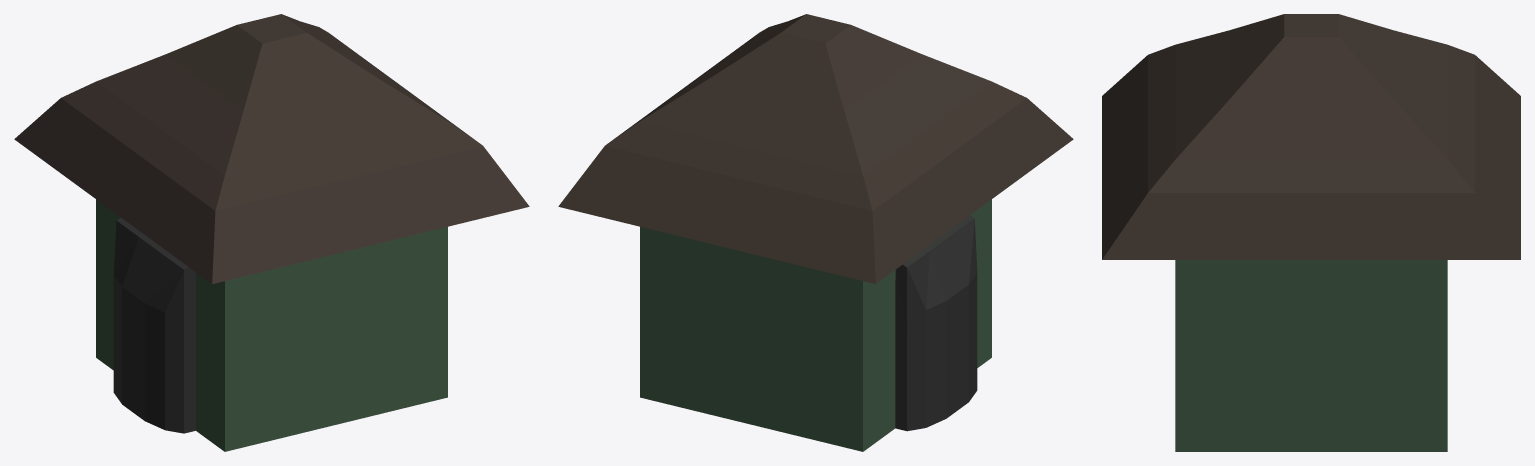
The model's file is SM_House.fbx.
3 views of the same model, side by side, from view 1: azimuth 30°, elevation 25°; view 2: azimuth 150°, elevation 25°; view 3: azimuth 270°, elevation 25° (orthographic). The views are drawn at different scales.
Parts seen in each view (by area): view 1: pCube1; view 2: pCube1; view 3: pCube1.
Boxes of the visible parts, bbox=[...] form: pCube1: bbox=[14, 14, 529, 451]; pCube1: bbox=[558, 14, 1073, 451]; pCube1: bbox=[1102, 14, 1520, 451].
Bounding box in the file's own units: 0.0142 × 0.0154 × 0.0149.
